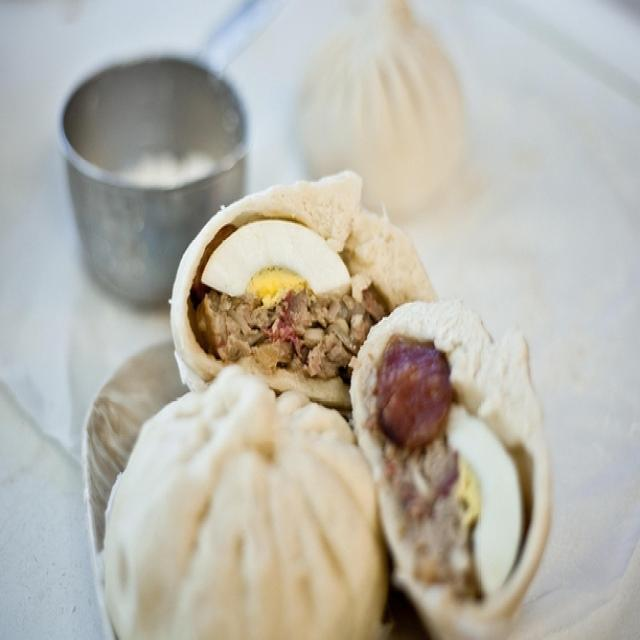带馅早点: (68, 130, 594, 621)
